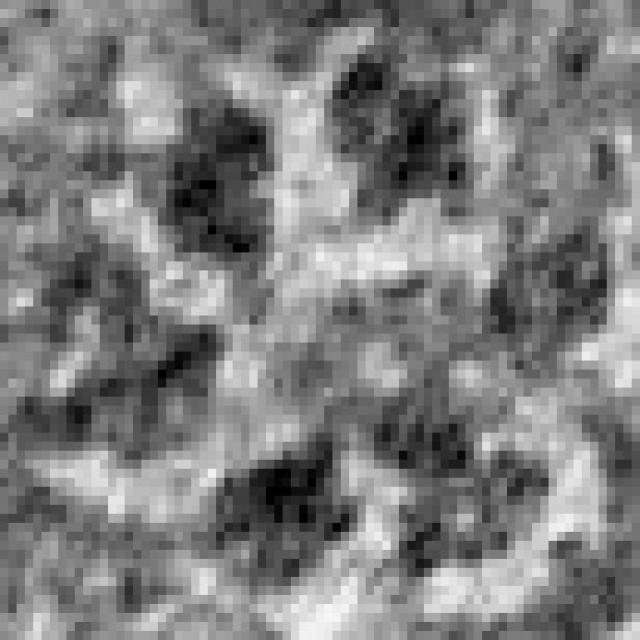inner: (227, 225, 486, 429)
lobe: (21, 243, 223, 466), (369, 412, 552, 578), (198, 440, 371, 601), (330, 47, 477, 227), (149, 93, 286, 269), (484, 223, 619, 384)
outer: (0, 0, 640, 640)
